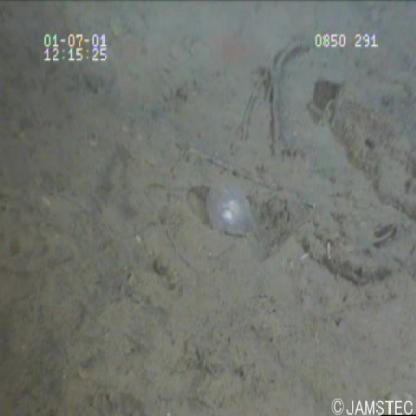Rác: (201, 169, 257, 244)
